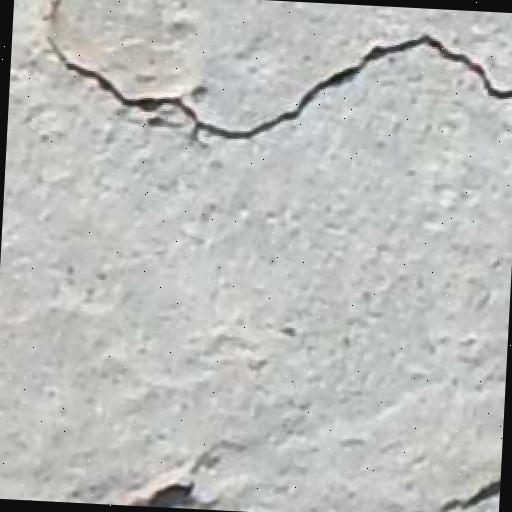spalling: (27, 11, 512, 171), (423, 468, 493, 512)
